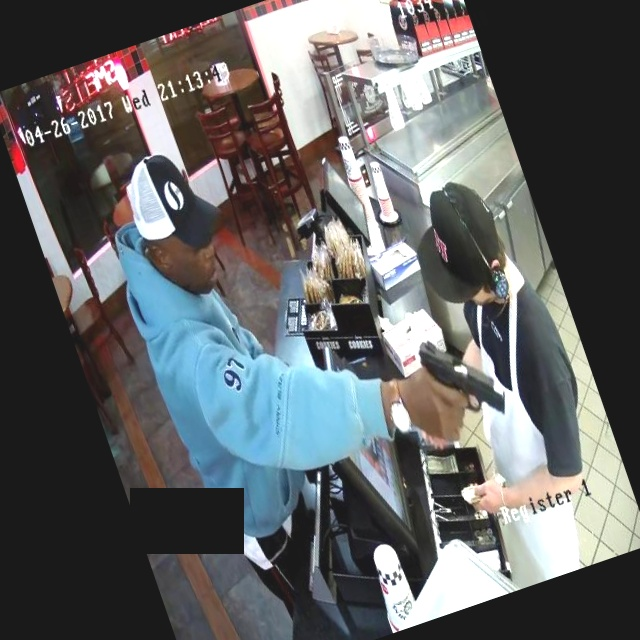gun: (388, 303, 531, 460)
